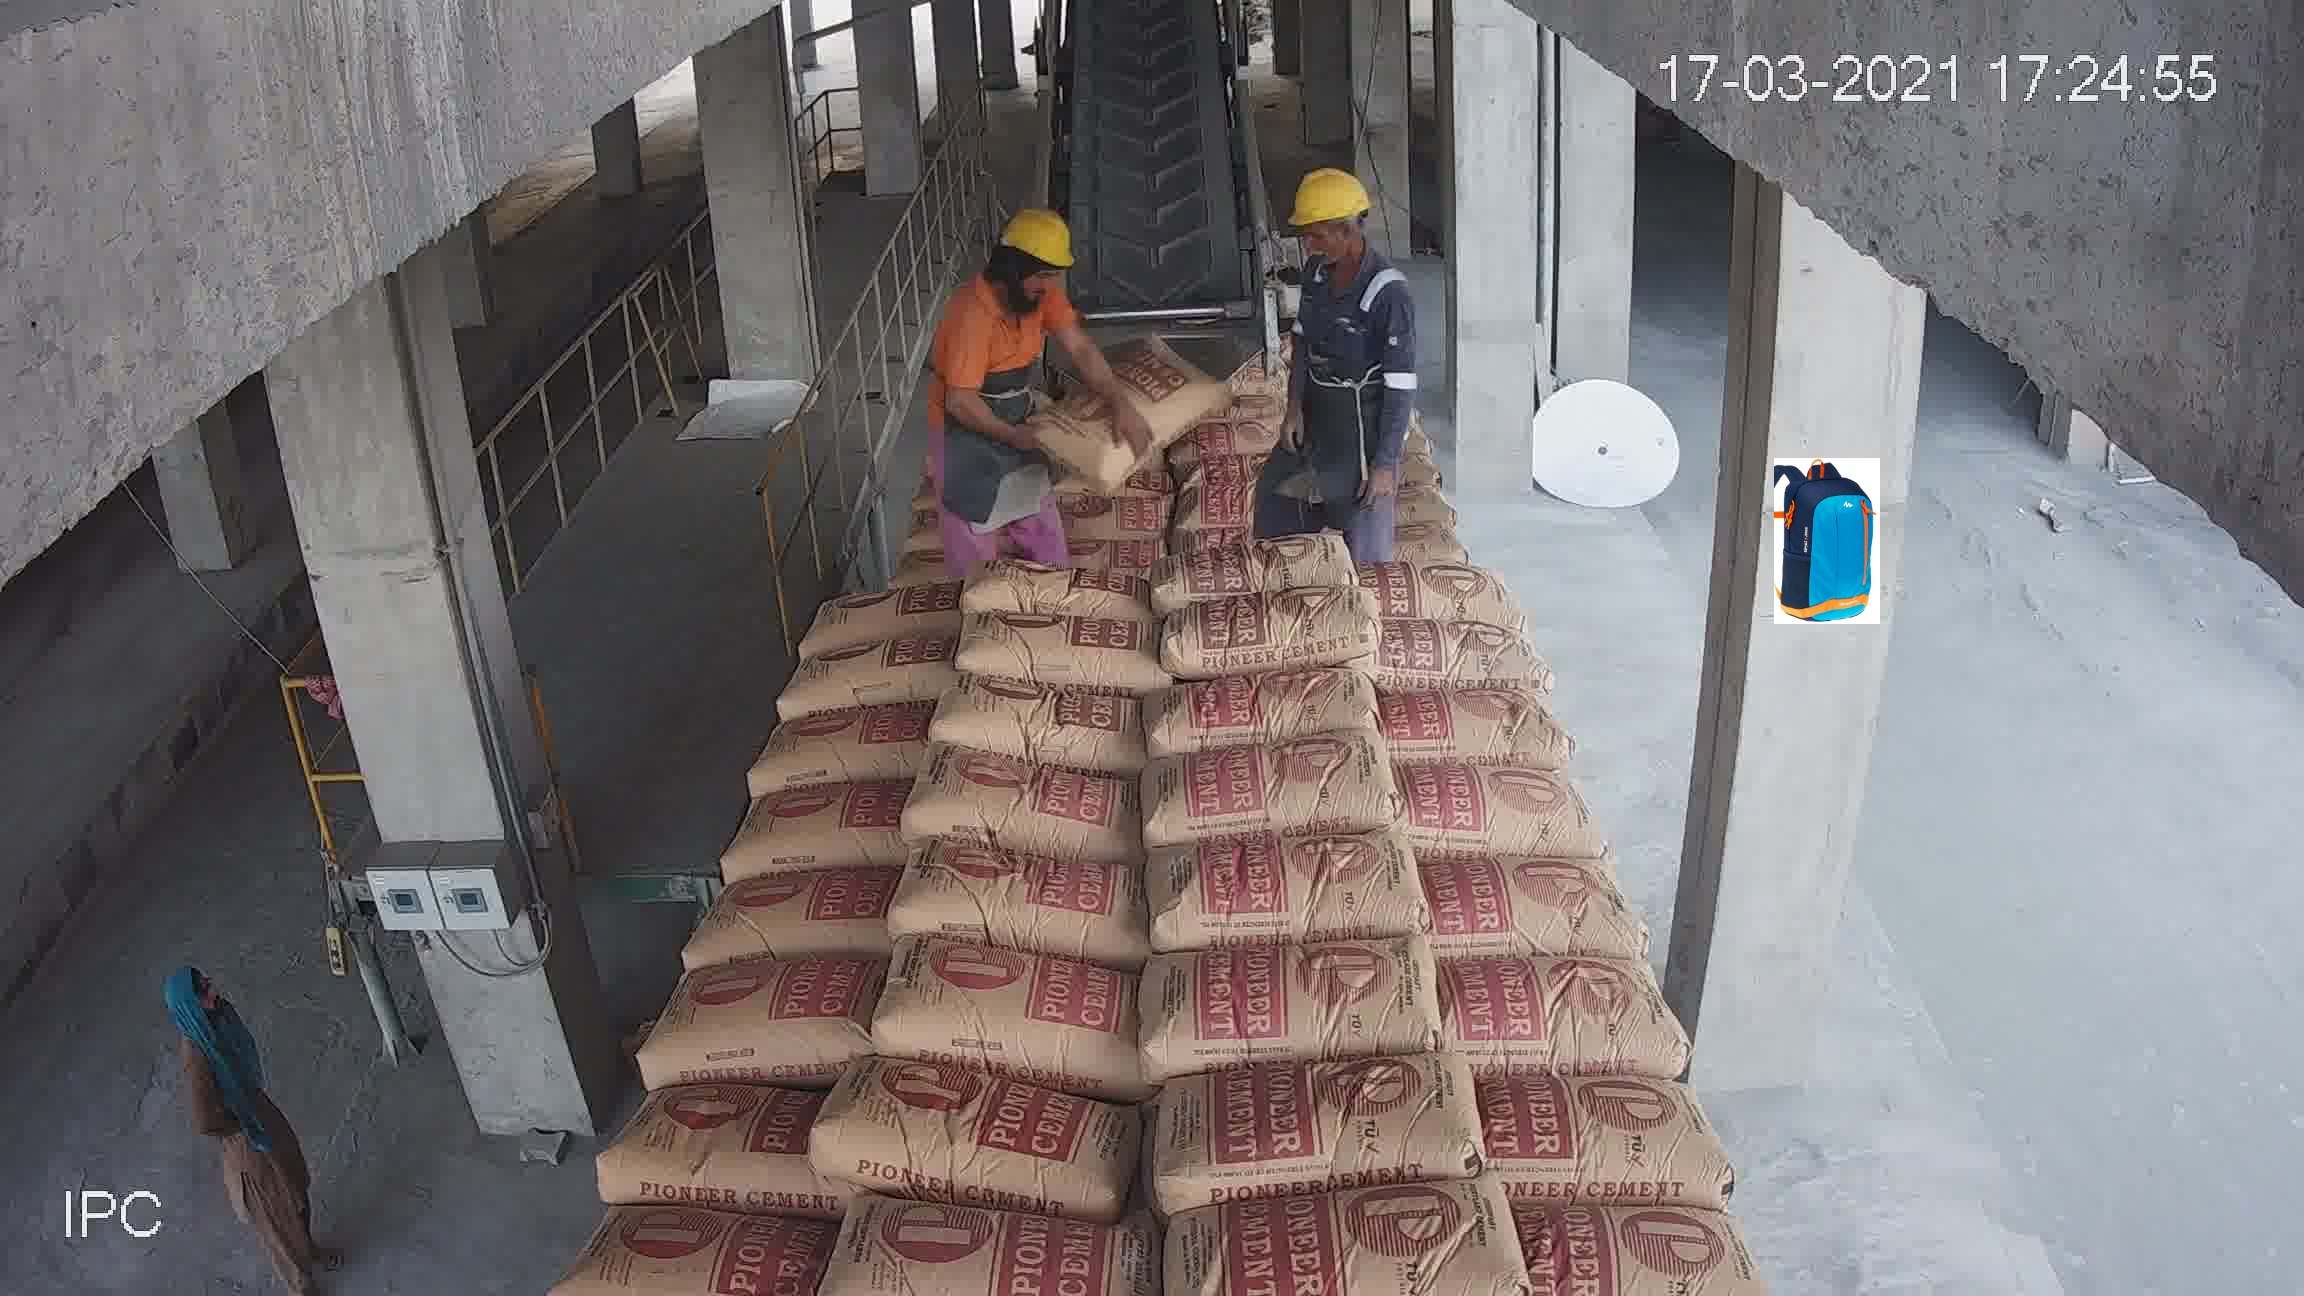bag: (1067, 286, 1165, 373), (1119, 149, 1184, 245)
bag_h: (1166, 1024, 1483, 1193), (809, 1065, 1147, 1207), (1138, 915, 1438, 1067), (847, 938, 1138, 1089), (843, 1177, 1188, 1296), (1185, 1176, 1502, 1296), (623, 945, 904, 1079), (1487, 1036, 1704, 1204), (1124, 726, 1394, 855), (862, 836, 1139, 961), (1173, 829, 1423, 956), (623, 859, 889, 975), (592, 1070, 817, 1206), (1449, 946, 1676, 1073), (1130, 650, 1372, 763), (1532, 1187, 1777, 1296), (1449, 840, 1644, 968), (711, 715, 942, 823), (918, 668, 1166, 764), (524, 1207, 805, 1291), (902, 771, 1146, 866), (1391, 760, 1589, 872), (706, 783, 908, 885), (1119, 529, 1366, 611), (771, 563, 968, 660), (935, 608, 1157, 692), (1152, 595, 1377, 669), (1138, 487, 1339, 570), (763, 636, 943, 726), (1378, 695, 1582, 772), (809, 524, 983, 609), (1369, 612, 1549, 695), (1337, 554, 1521, 628), (824, 472, 984, 552), (956, 555, 1154, 620), (994, 415, 1152, 495), (1160, 392, 1331, 467), (1298, 462, 1492, 525), (1324, 513, 1514, 576), (851, 440, 1005, 510), (983, 503, 1149, 565), (1312, 419, 1470, 479), (1288, 328, 1421, 399), (1285, 373, 1421, 438), (986, 460, 1150, 513), (1155, 453, 1323, 503), (870, 405, 995, 457), (1283, 366, 1415, 411), (1279, 307, 1374, 358)
belt: (1032, 35, 1253, 305)
